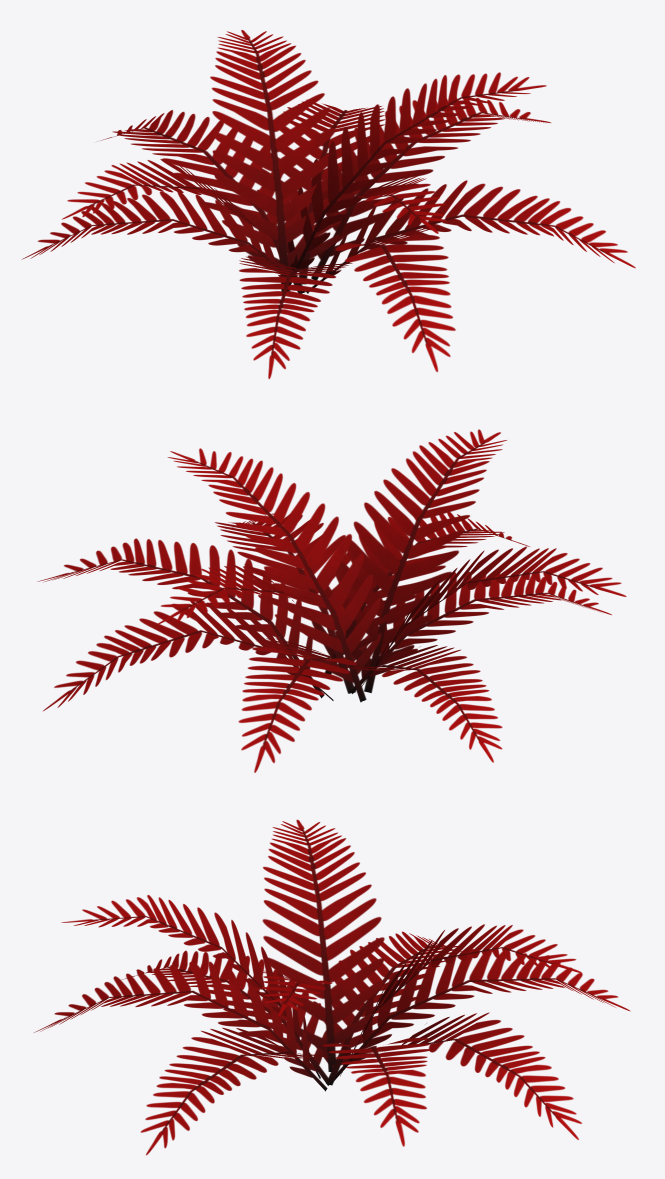
The model's file is SM_Nature_Plant_02.glb.
3 renders of one model, top to bottom at view 1: azimuth 30°, elevation 25°; view 2: azimuth 150°, elevation 25°; view 3: azimuth 270°, elevation 25°, orthographic. The views are drawn at different scales.
Visible parts, largest first — view 1: SM_Plant_02; view 2: SM_Plant_02; view 3: SM_Plant_02.
Part boxes in pixels (x1=…): SM_Plant_02: x1=22, y1=30, x2=635, y2=378; SM_Plant_02: x1=37, y1=429, x2=626, y2=772; SM_Plant_02: x1=34, y1=819, x2=630, y2=1155.
Bounding box in the file's own units: 1.17 × 0.3731 × 1.2.
1 material, 1 textured.
